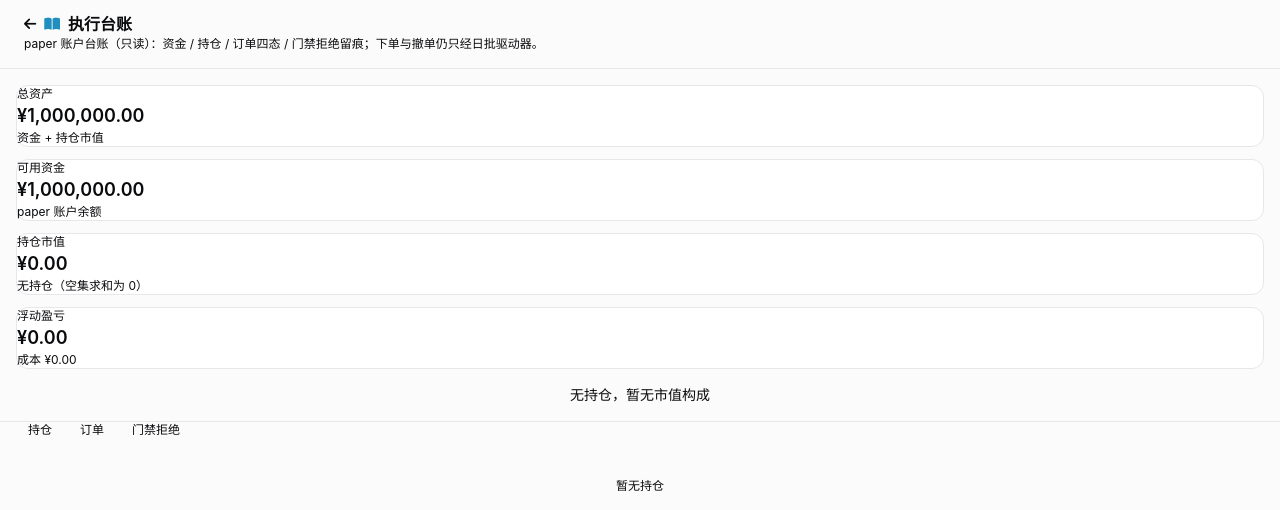
Scenario: 执行台账页（delta add-broker-console T2.2） › 空账户空态如实：指标条显示资金、图表/三页签空态，MUST NOT 伪持仓/伪订单
Expected: the element with test id "page-shell-metric-cash" shows "1,000,000.00", left=17, top=179, right=144, bottom=200
Expected: the text with test id "broker-chart-empty" shows "无持仓", left=570, top=386, right=710, bottom=403
What coordinates should you click on to do the following:
click the tab with test id "page-shell-tab-orders"
I would click on:
 (92, 430)
Its box is left=68, top=422, right=116, bottom=438.
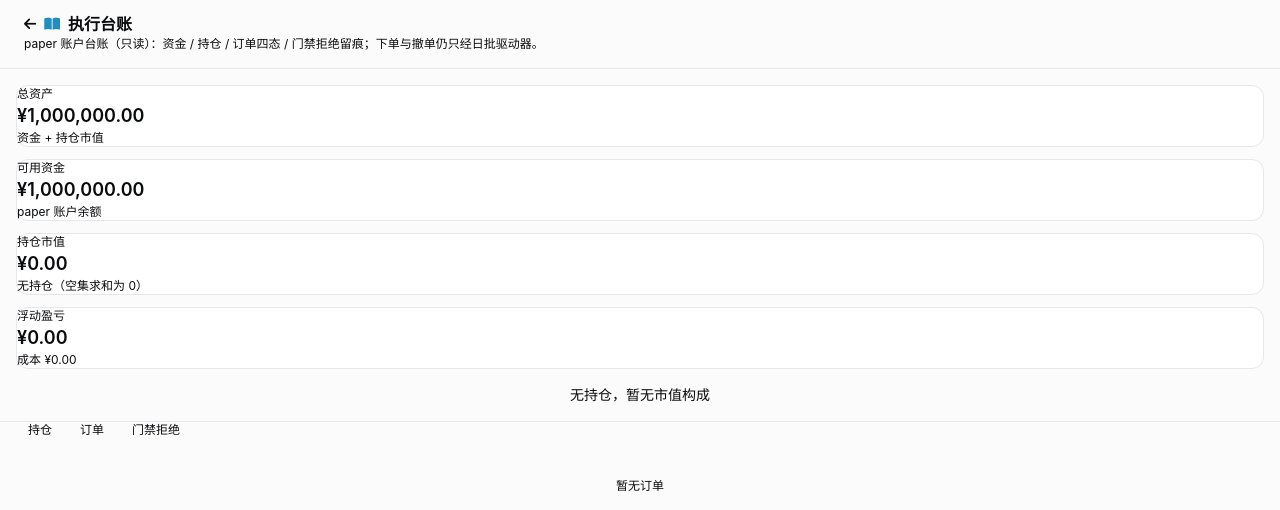
Now the text with test id "broker-orders-empty" reads "暂无订单", box left=616, top=478, right=664, bottom=493
What coordinates should you click on to do the following:
click the tab with test id "page-shell-tab-gate-log"
I would click on:
 (156, 430)
Its box is left=120, top=422, right=192, bottom=438.
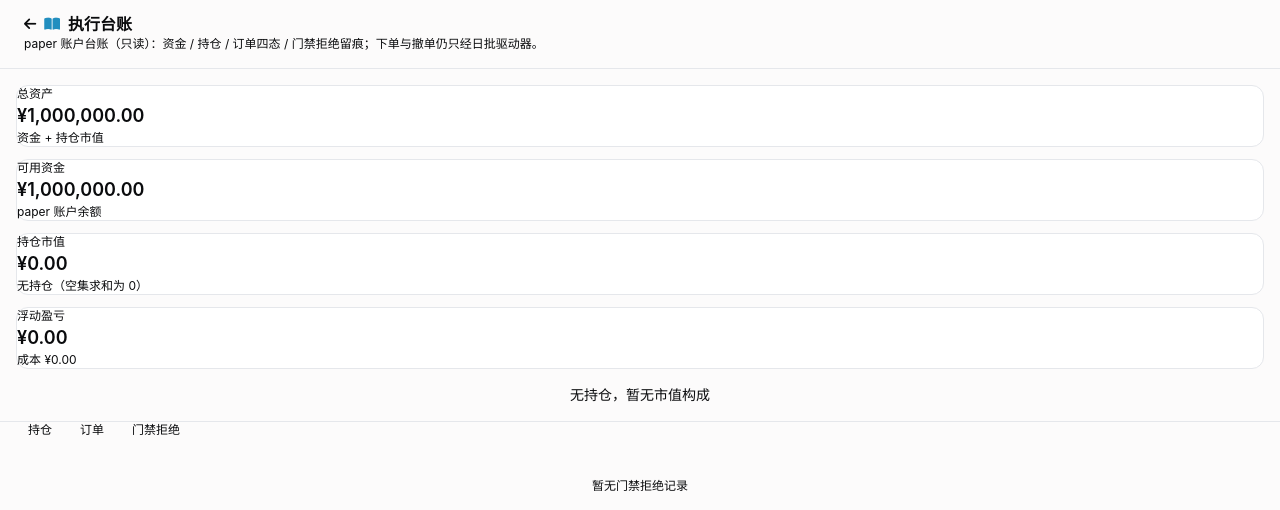
Now the text with test id "broker-gate-empty" reads "暂无门禁拒绝记录", box left=592, top=478, right=688, bottom=493
